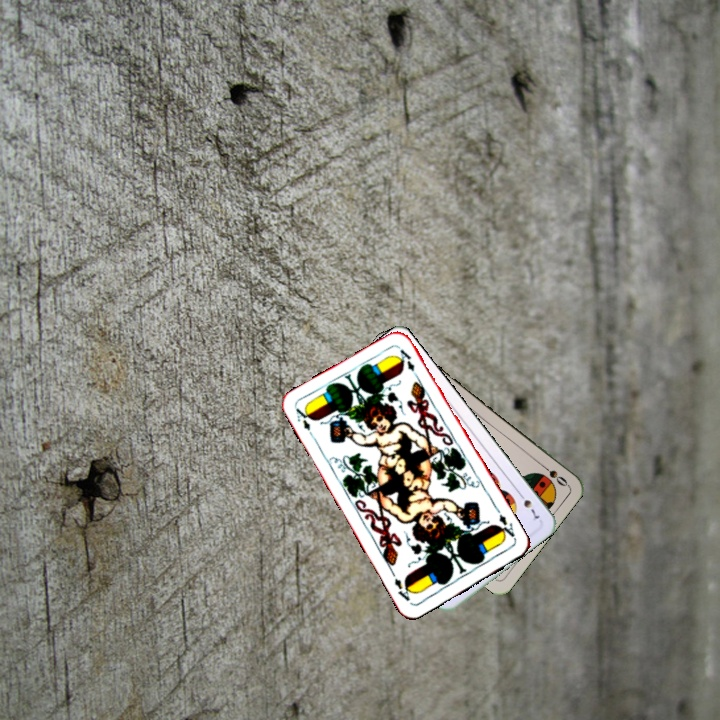EA: (292, 404, 318, 441), (493, 510, 518, 543)
S7: (514, 488, 542, 523)
SO: (535, 459, 570, 489)
